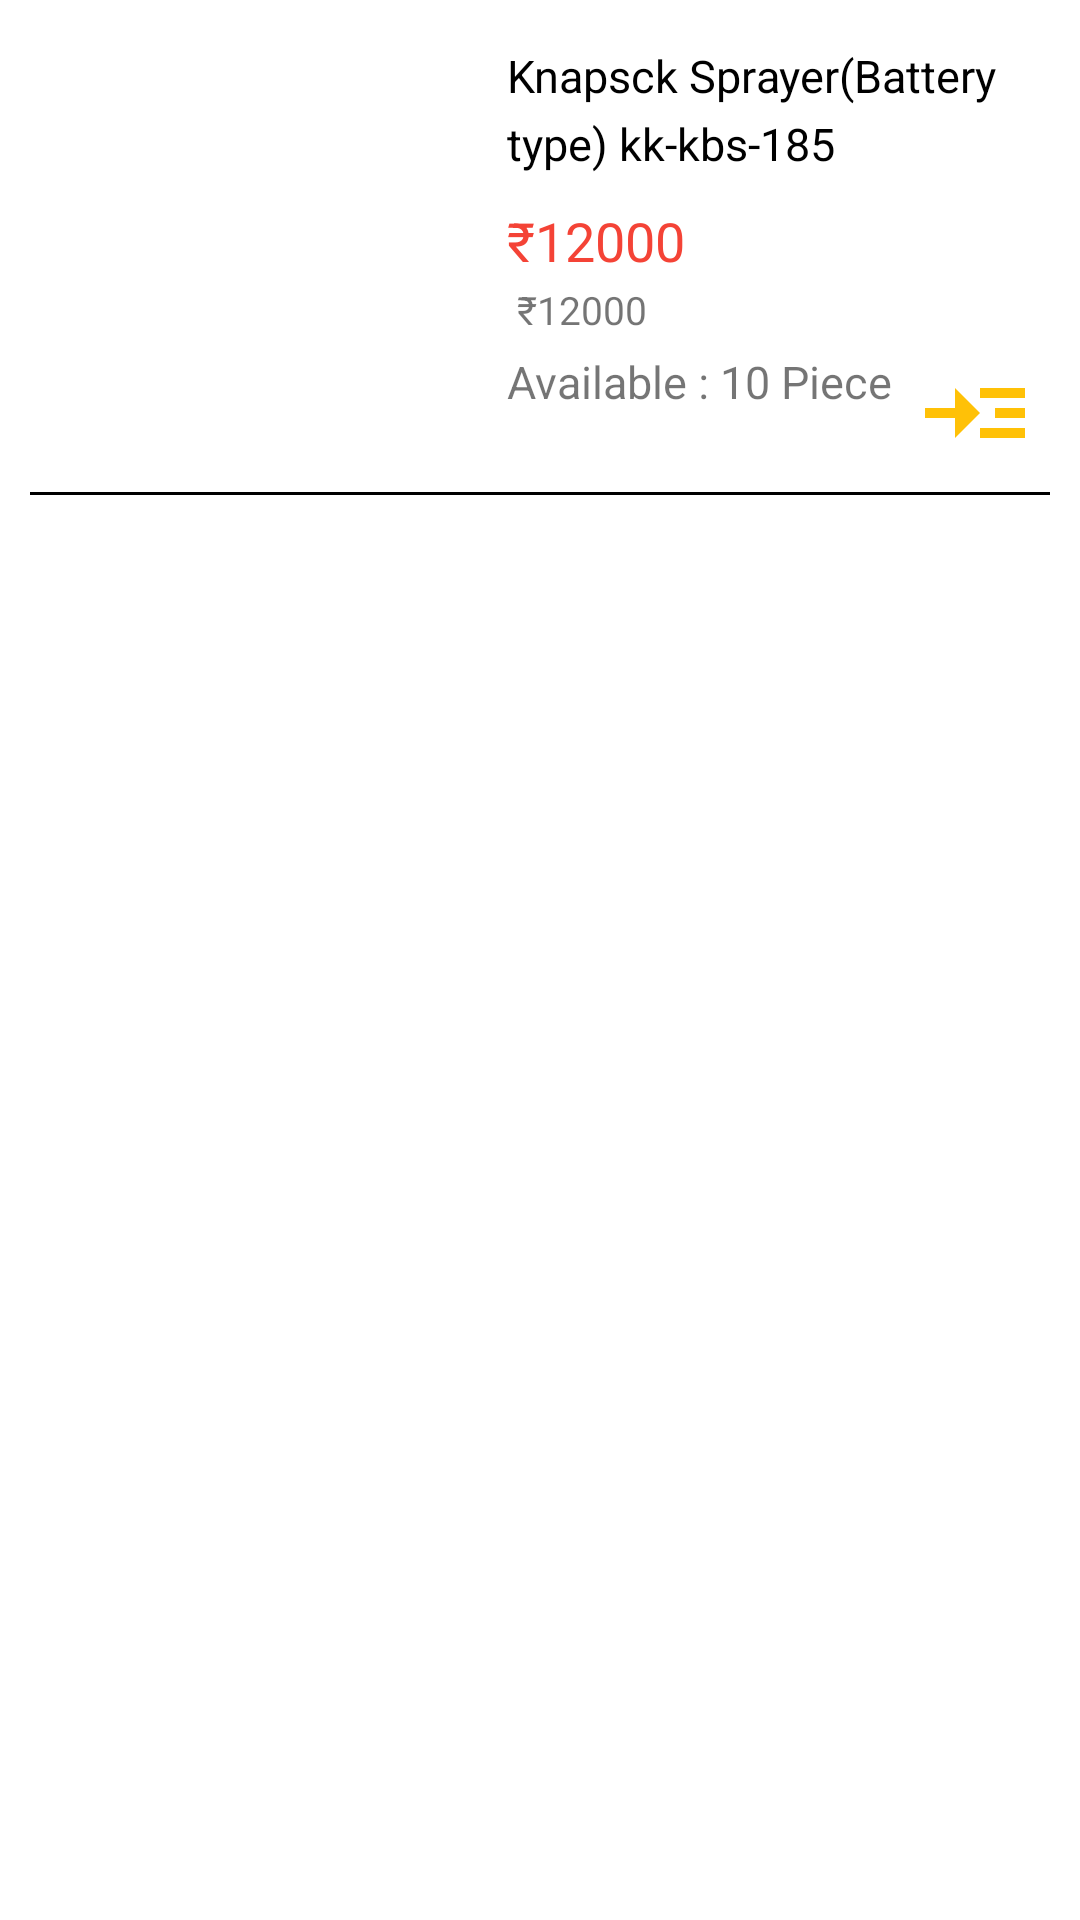

Screen size 1080×1920. Icon name, then its box in pixels as (x1, y1, x2, y2):
read more: (925, 388, 1025, 438)
